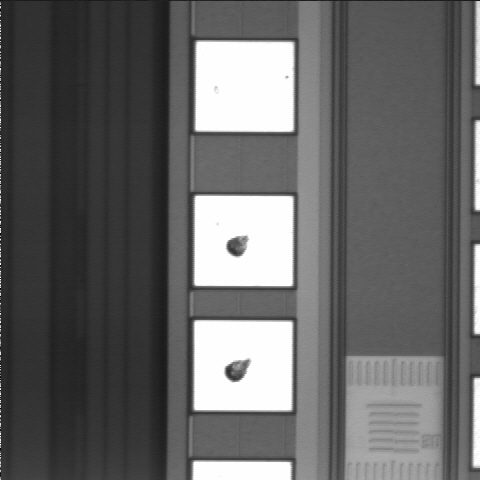pad: (194, 320, 292, 411), (195, 42, 294, 132), (194, 196, 293, 286)
